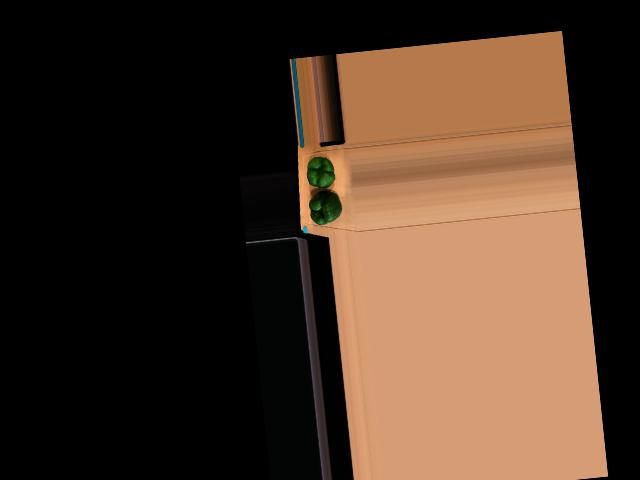bell_pepper: (304, 155, 340, 190)
